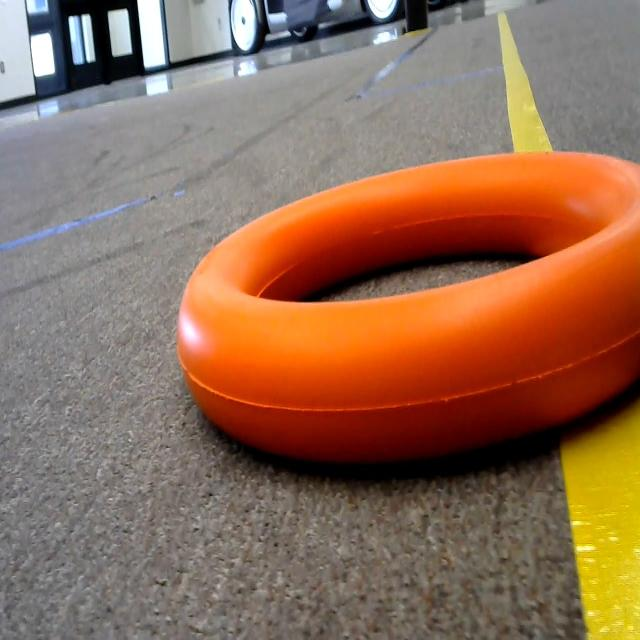note: (176, 146, 640, 491)
